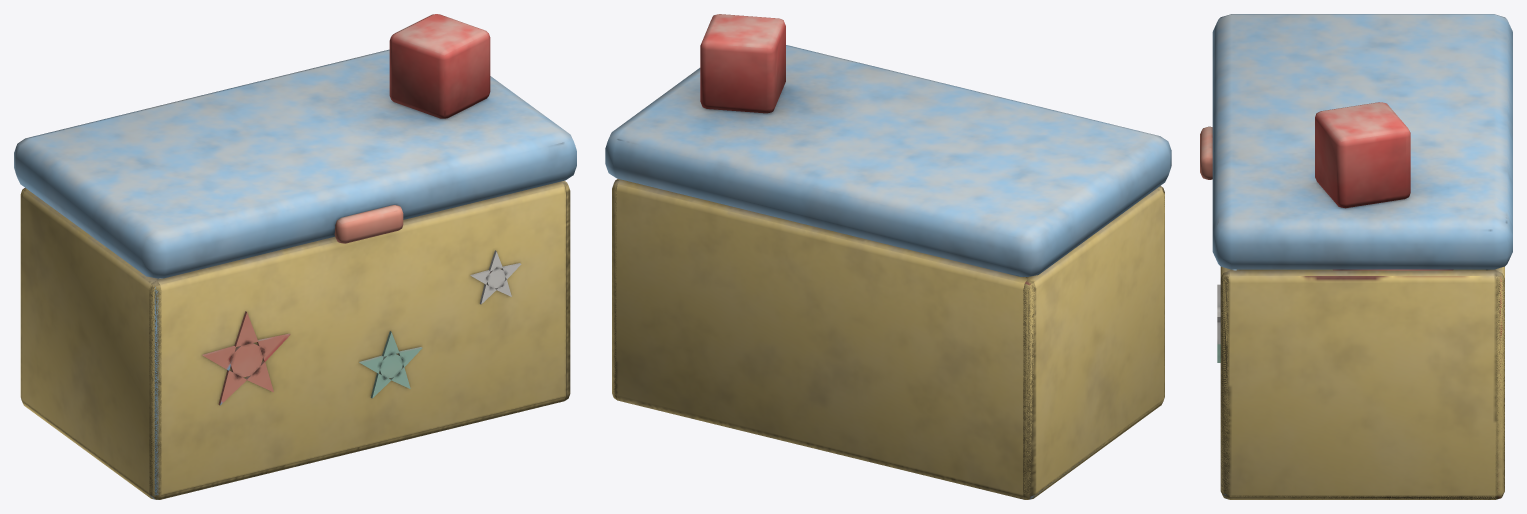
Rendered from toy_chest.fbx.
3 views of the same model, side by side, from view 1: azimuth 30°, elevation 25°; view 2: azimuth 150°, elevation 25°; view 3: azimuth 270°, elevation 25° (orthographic). The views are drawn at different scales.
Visible parts, largest first — view 1: Body, Lid; view 2: Body, Lid; view 3: Lid, Body.
Boxes of the visible parts, bbox=[...] form: Body: bbox=[20, 180, 570, 499]; Lid: bbox=[14, 14, 576, 278]; Body: bbox=[612, 179, 1164, 499]; Lid: bbox=[605, 14, 1171, 276]; Lid: bbox=[1200, 14, 1512, 269]; Body: bbox=[1217, 266, 1504, 499].
Size of the model in its own units: 3.3 by 2.45 by 1.98.
1 material, 1 textured.
